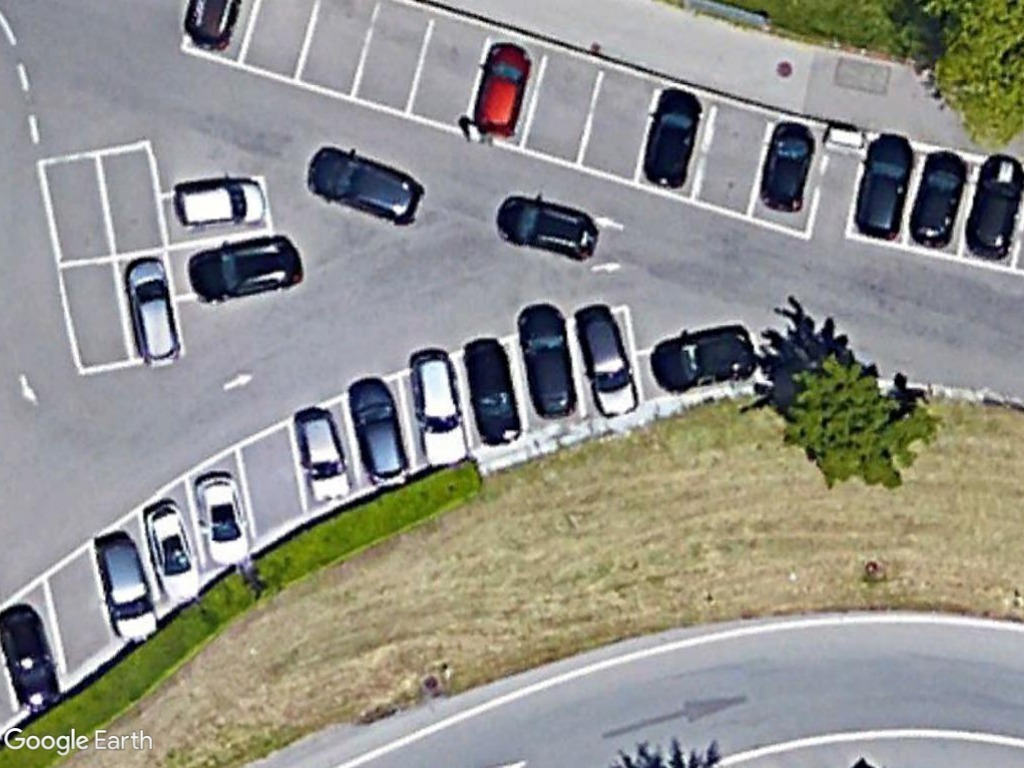car: (302, 144, 422, 228), (183, 227, 303, 303), (575, 302, 646, 420), (489, 188, 602, 262), (87, 535, 163, 644), (408, 343, 473, 466), (345, 372, 411, 480), (122, 258, 183, 370), (851, 137, 917, 240), (471, 33, 533, 142), (143, 497, 206, 601), (461, 336, 519, 448), (289, 412, 355, 506), (642, 92, 705, 189), (0, 601, 58, 705), (906, 152, 970, 245), (198, 466, 258, 564), (174, 173, 266, 233), (755, 125, 815, 216)
